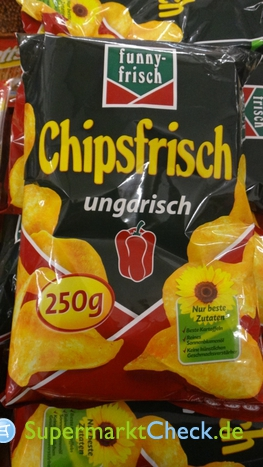chipsfrisch: (1, 30, 263, 421)
